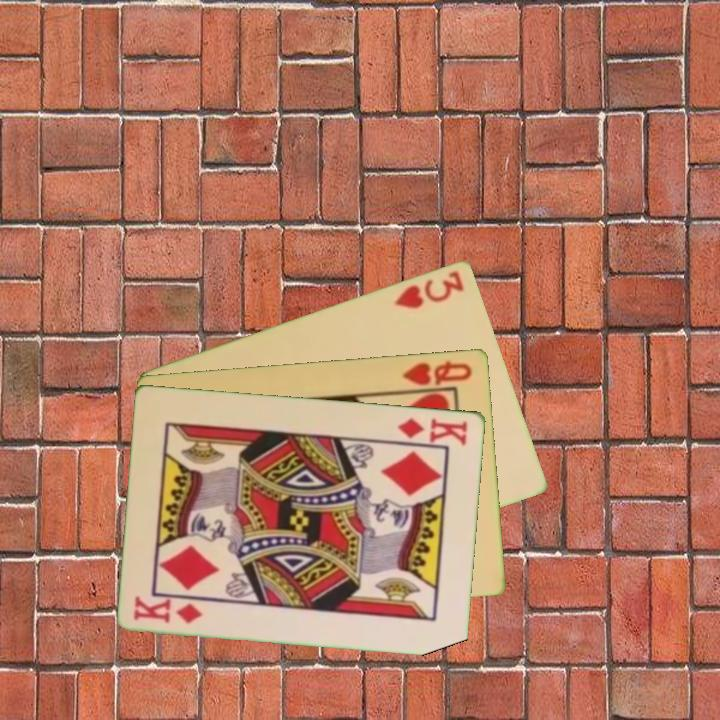3h: (390, 266, 467, 311)
Kd: (394, 414, 471, 448), (130, 593, 206, 626)
Qh: (399, 356, 475, 388)
